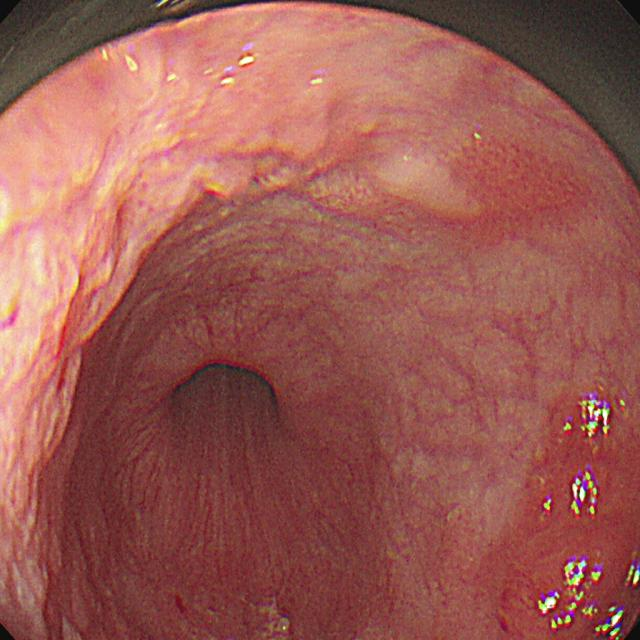A: (2, 27, 352, 222), (1, 224, 146, 640), (455, 140, 592, 239)
I: (149, 307, 302, 493)
U: (536, 556, 640, 640), (561, 392, 628, 444), (569, 469, 601, 520), (220, 53, 255, 90), (120, 55, 142, 75), (540, 494, 555, 517), (305, 75, 328, 89), (165, 71, 181, 85)
